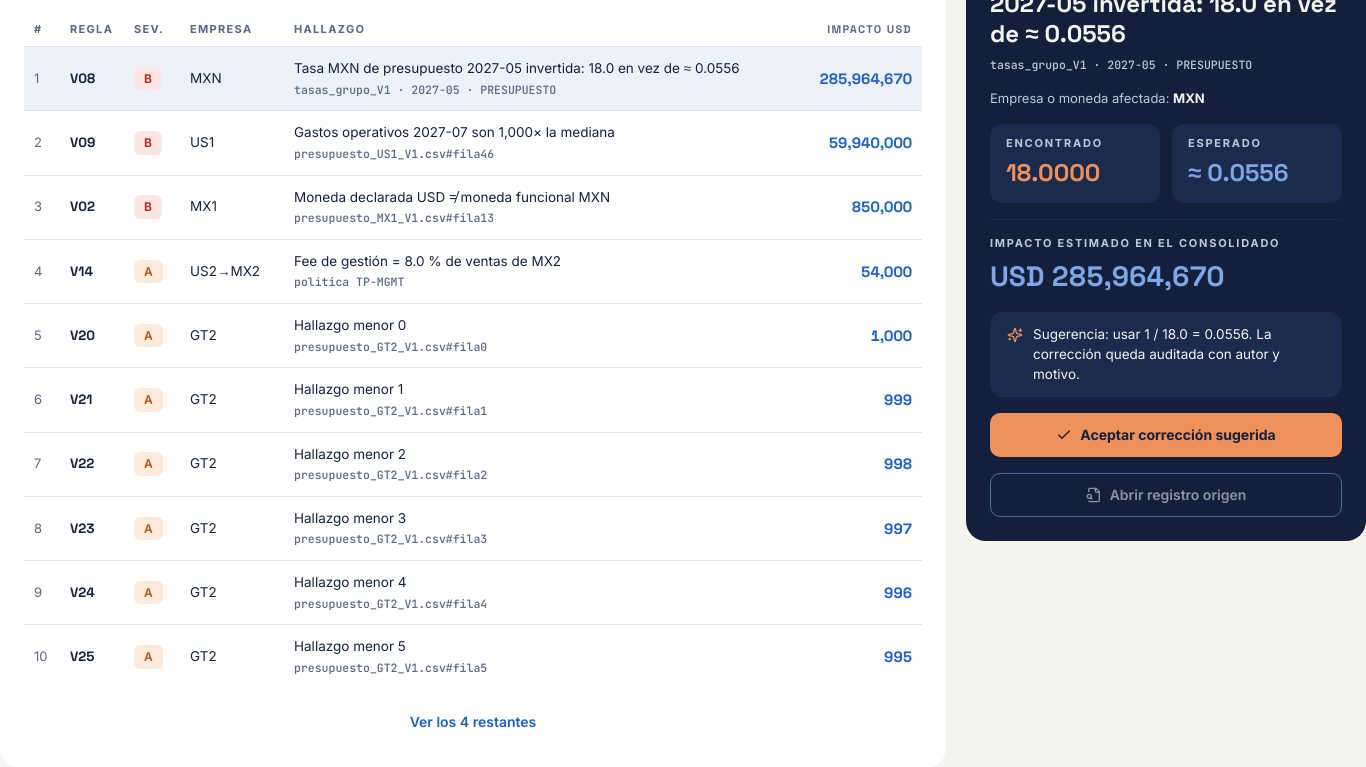
it: ValidationPage › limita a 10 y expande con "Ver los N restantes"
The width and height of the screenshot is (1366, 767).
(page scrolled)
Expected: the table is shown, [24,14,922,688]
What coordinates should you click on to do the following:
click the button "Ver los 4 restantes"
I would click on:
 (473, 722)
Its box is [401,700,545,744].
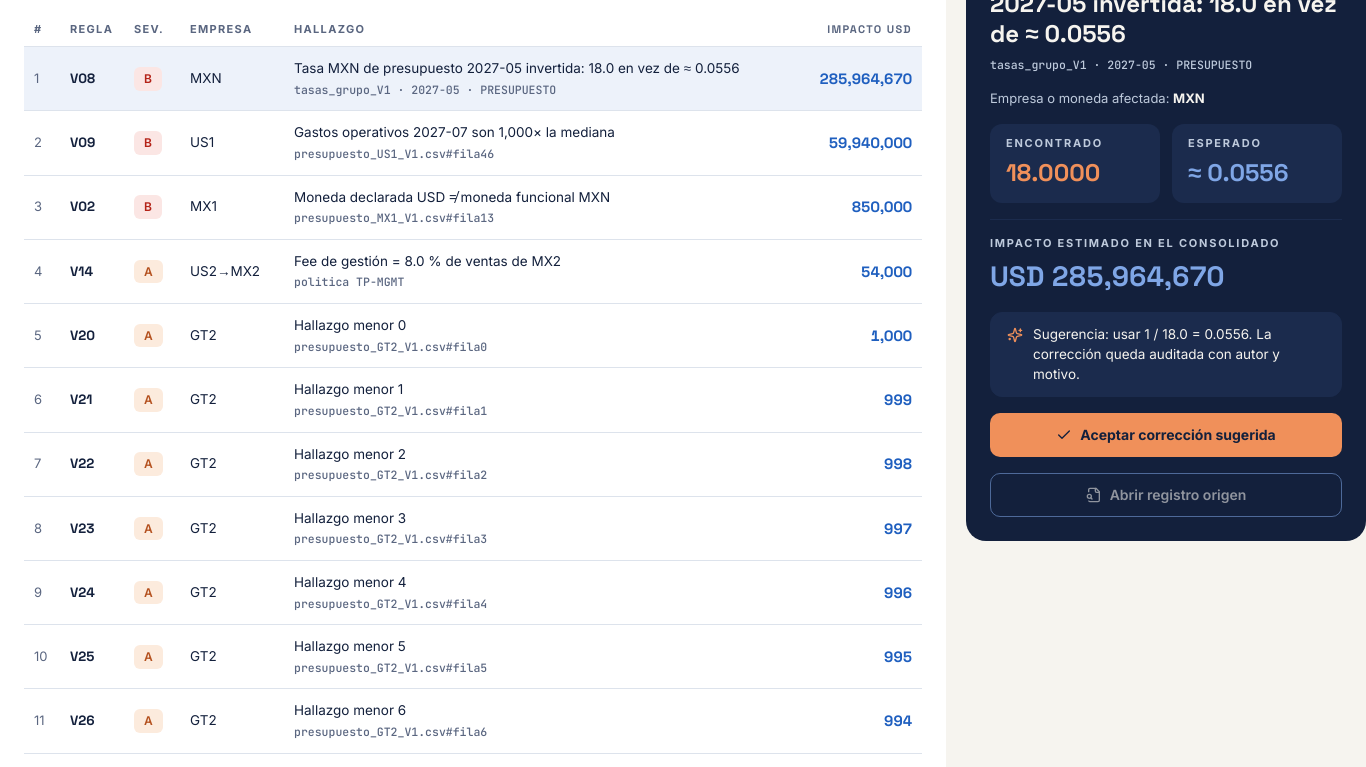
Result: the button "restantes" is gone
